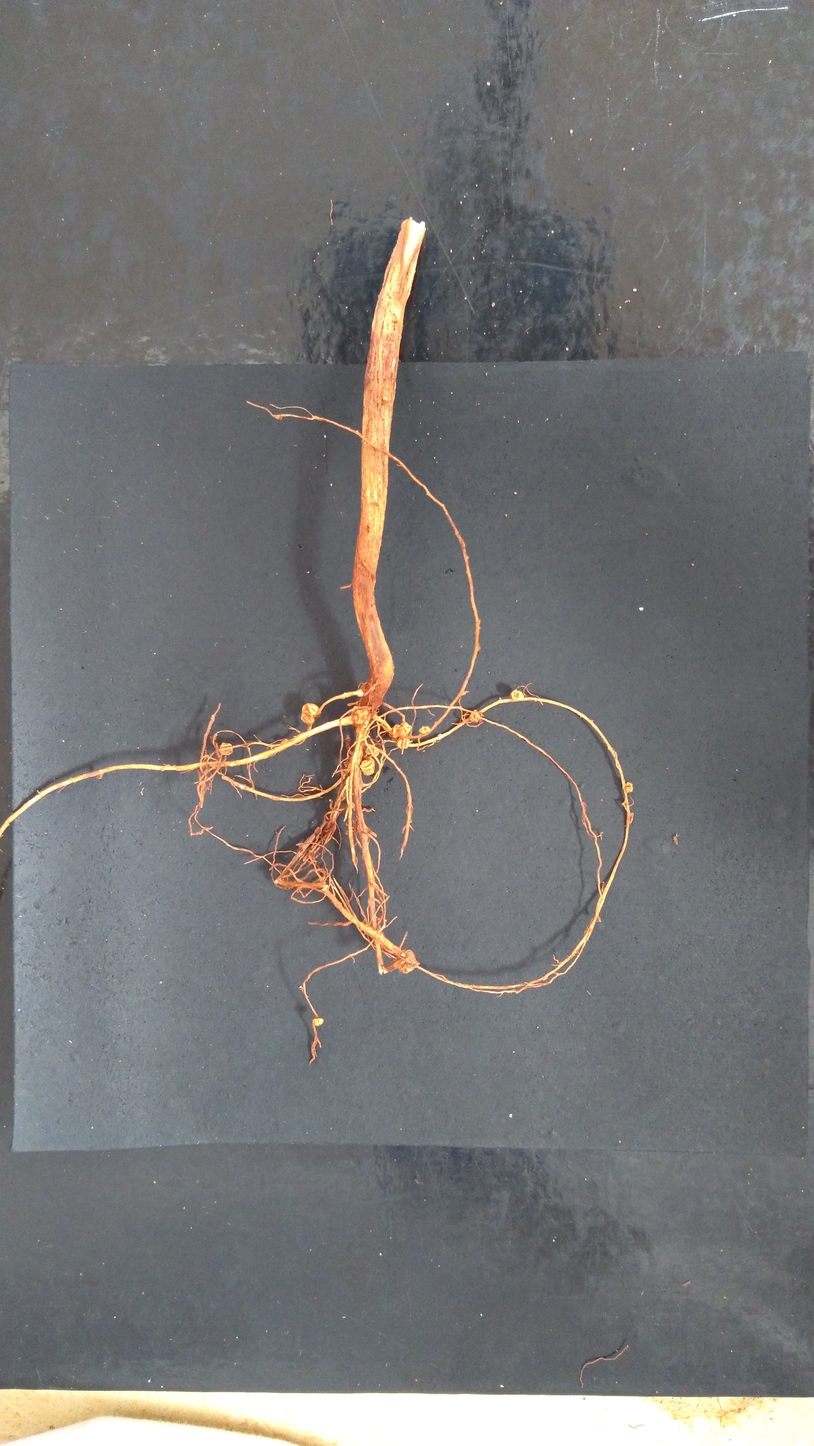nodule: (395, 948, 419, 975), (299, 701, 321, 726), (359, 756, 375, 777), (351, 706, 368, 725), (508, 686, 525, 705), (218, 741, 234, 756), (391, 723, 405, 738), (365, 743, 380, 757), (394, 736, 410, 749), (469, 709, 481, 724), (400, 721, 412, 735), (418, 724, 432, 734), (311, 1017, 325, 1027), (625, 781, 634, 793)
